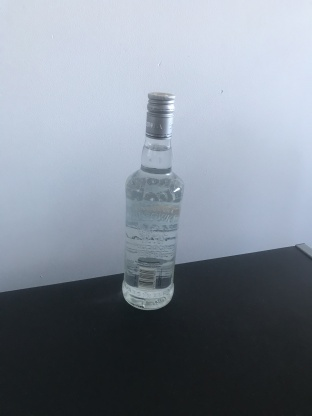nakretka: (144, 91, 176, 140)
